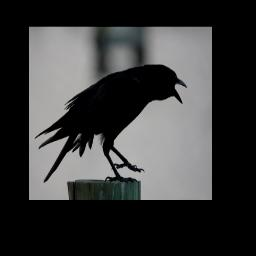Crow: (34, 63, 188, 184)
